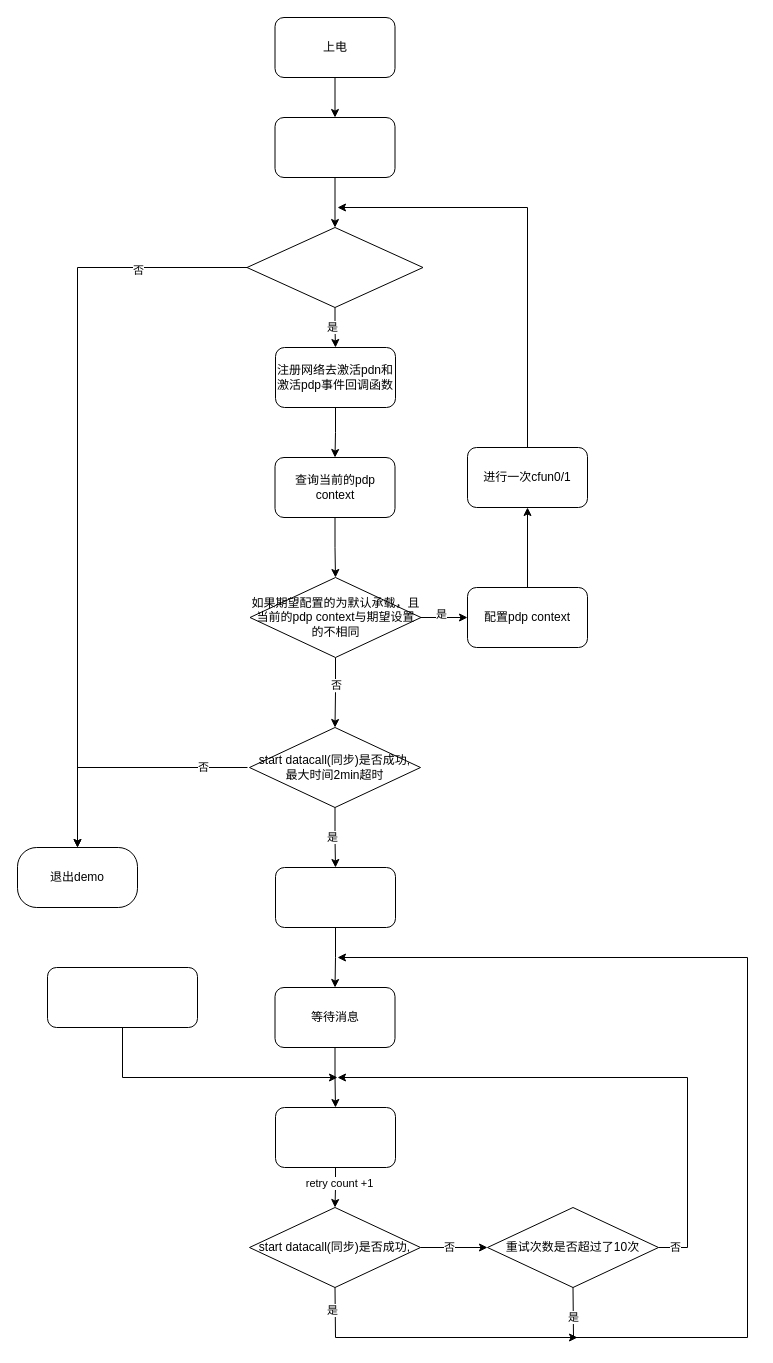
Image size: 773x1363. Some labels were removed from this diagram. The shapes that lost their labels are listed below. From the top down, each one's centre as x and y in pixels, then its label:
point 334,147: 进入datacall demo
point 334,267: 注网是否成功， 等待注网超时时间300s
point 335,897: 获取当前datacall的状态、ip信息
point 122,997: NW_PDN_DEACT事件触发
point 335,1137: 重新尝试datacall
